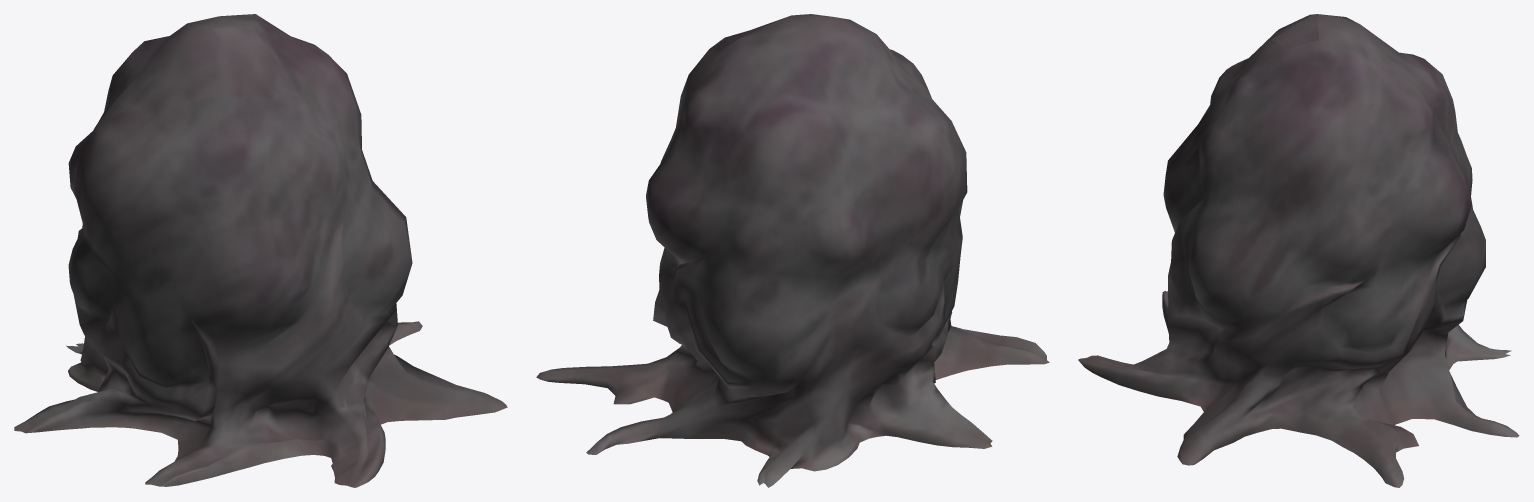
The model's file is Cocoon (35).fbx.
3 renders of one model, left to right at view 1: azimuth 30°, elevation 25°; view 2: azimuth 150°, elevation 25°; view 3: azimuth 270°, elevation 25°, orthographic. The views are drawn at different scales.
Visible parts, largest first — view 1: Egg; view 2: Egg; view 3: Egg.
Boxes of the visible parts, x1=… form: Egg: x1=14, y1=14, x2=507, y2=487; Egg: x1=536, y1=14, x2=1049, y2=487; Egg: x1=1078, y1=14, x2=1519, y2=487.
Size of the model in its own units: 2.2 by 1.91 by 2.11.
